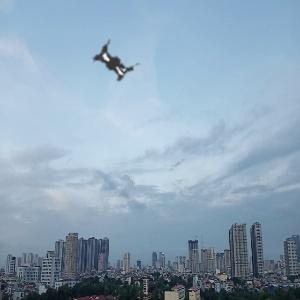drone: (50, 2, 183, 135)
